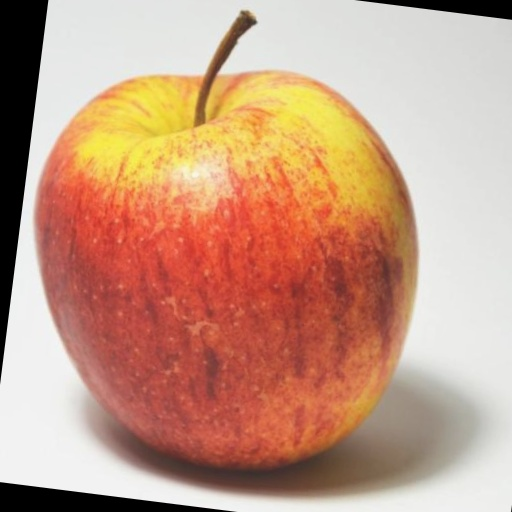fruit: (35, 71, 417, 469)
